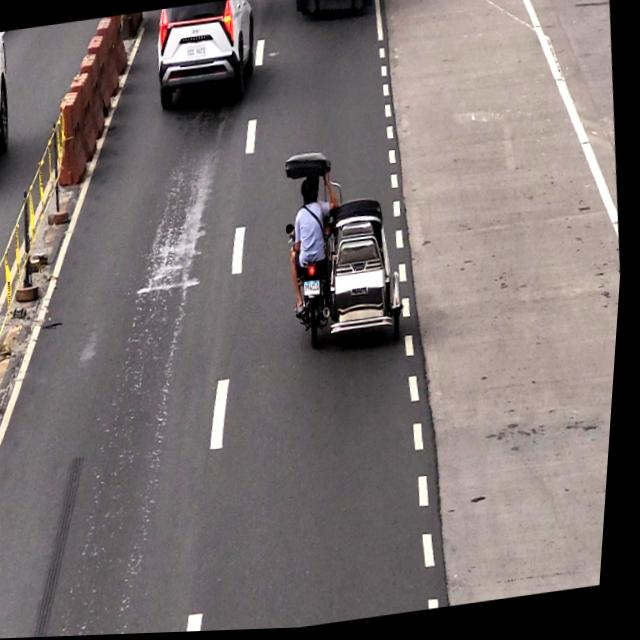Car: (151, 0, 262, 110)
License-Plate: (185, 44, 211, 64), (304, 281, 327, 303)
Tricycle: (273, 150, 419, 357)
